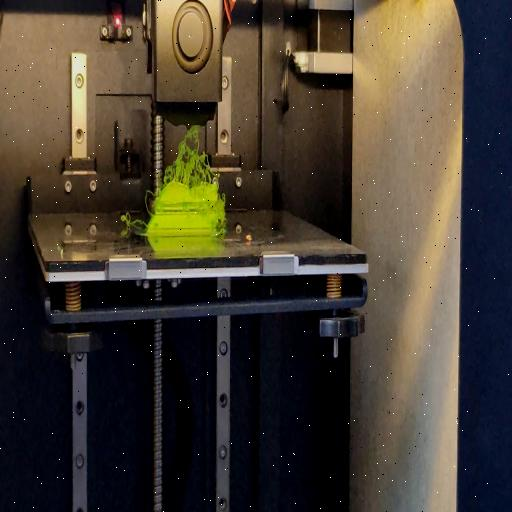spaghetti: (164, 130, 220, 186), (120, 212, 148, 230), (144, 188, 156, 214), (217, 225, 223, 235)
